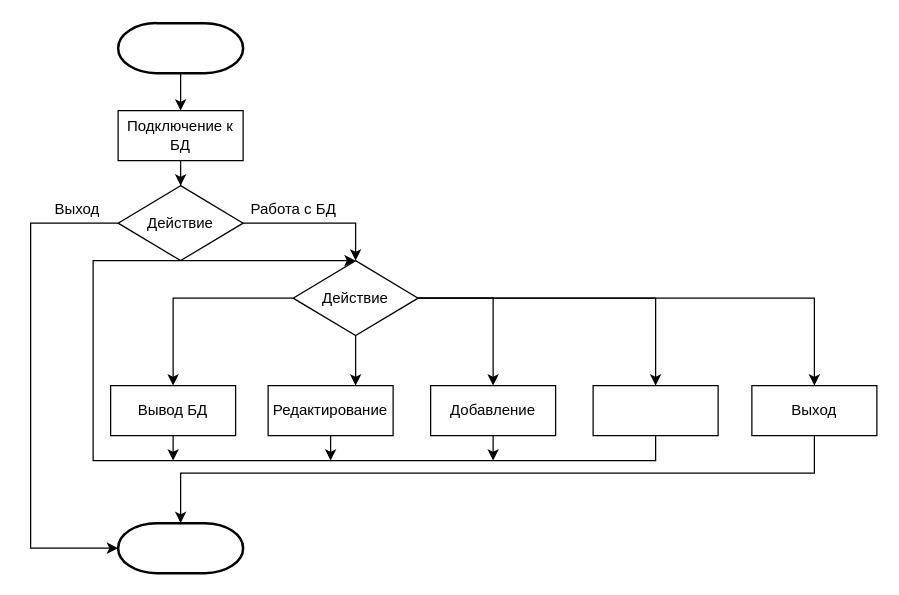
This 899x595 diagram has some shape labels left out. The shapes that lost their labels are listed below. From the top down, each one's centre as x and y in pixels, then its label:
the point at 180,47: Начало
the point at 655,410: Удаление
the point at 180,547: Конец
